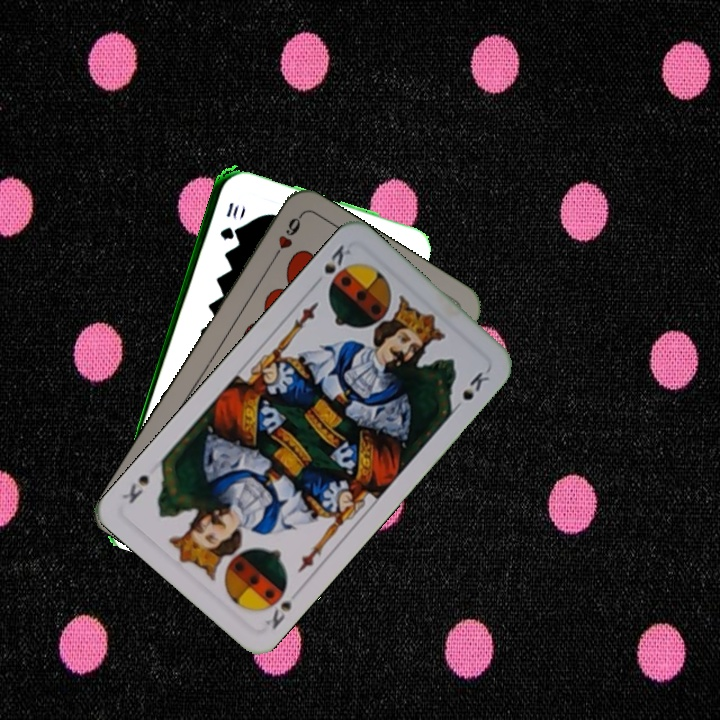G10: (216, 198, 241, 243)
H9: (267, 211, 305, 264)
SK: (309, 240, 354, 290), (260, 584, 302, 633)
